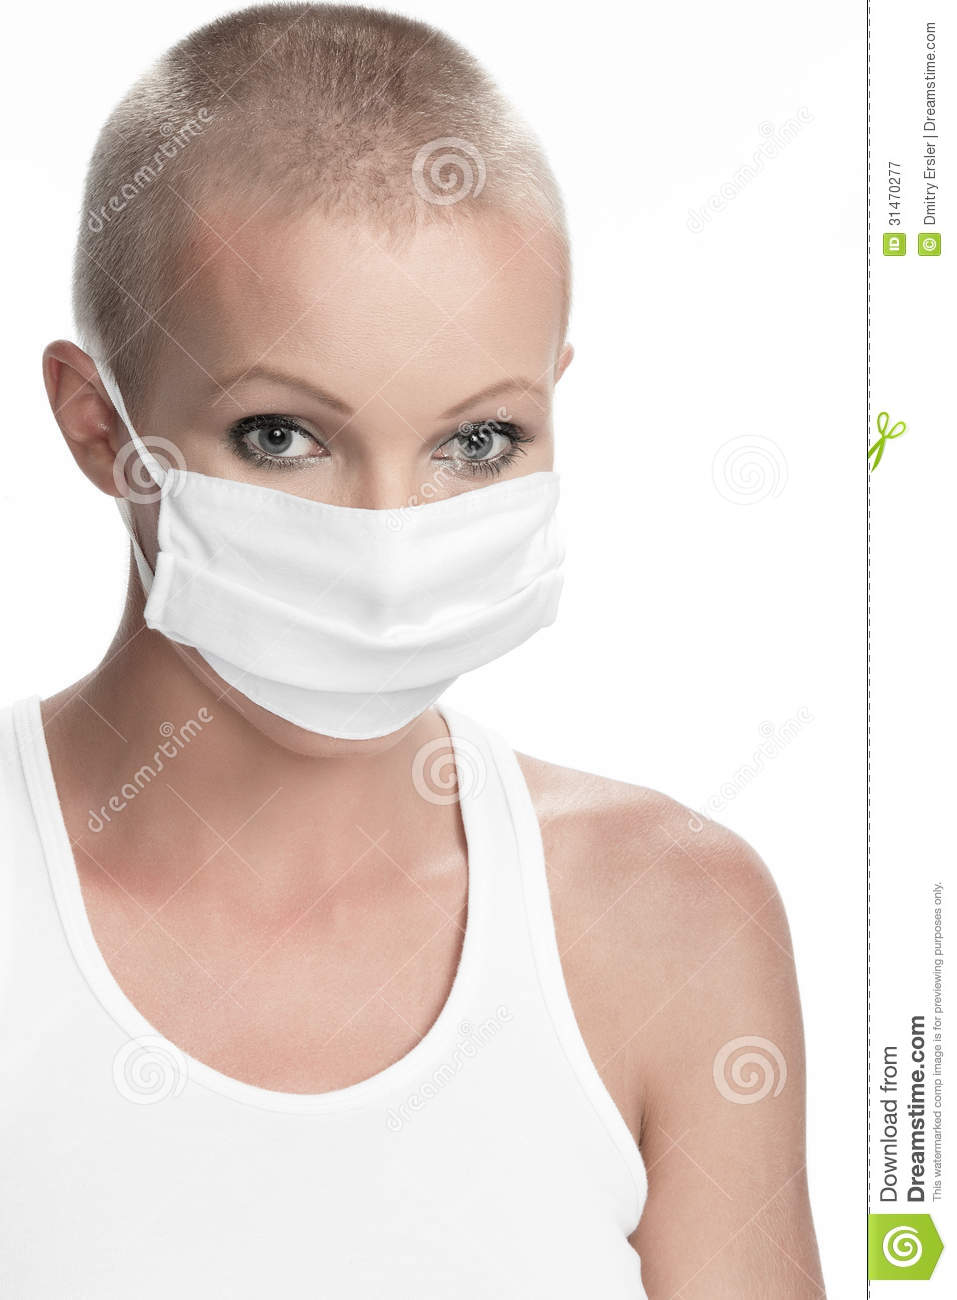mask: (146, 472, 556, 732)
